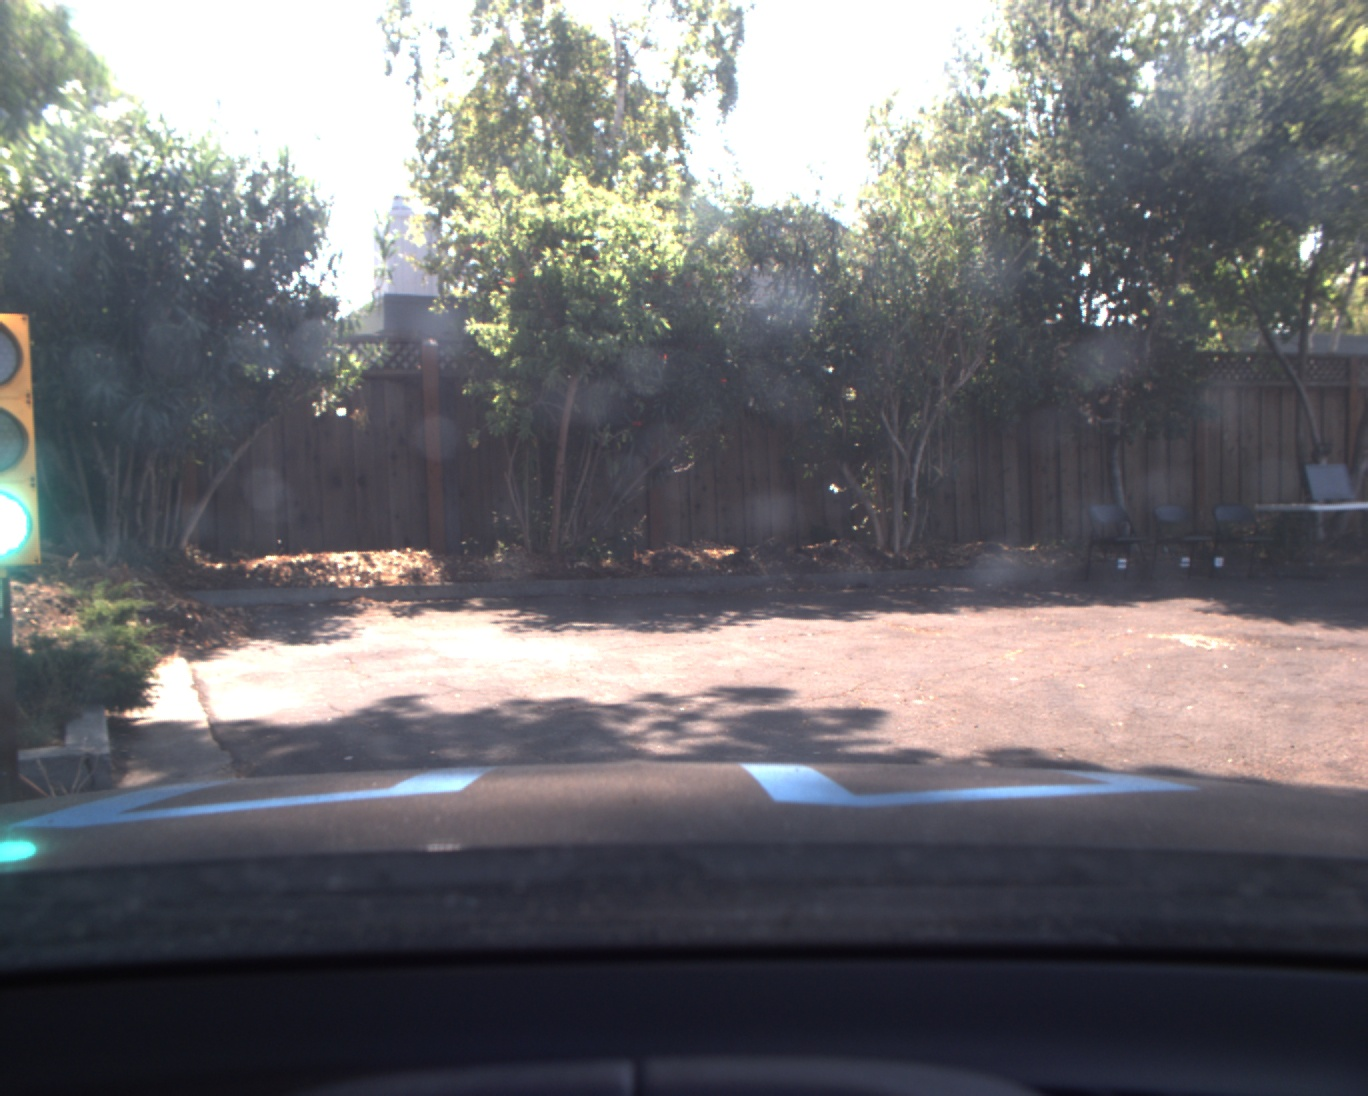green: (2, 314, 39, 570)
